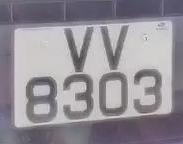0: (95, 67, 130, 121)
3: (56, 71, 99, 123), (130, 63, 166, 120)
8: (20, 68, 62, 129)
V: (94, 17, 135, 73), (59, 25, 99, 75)
